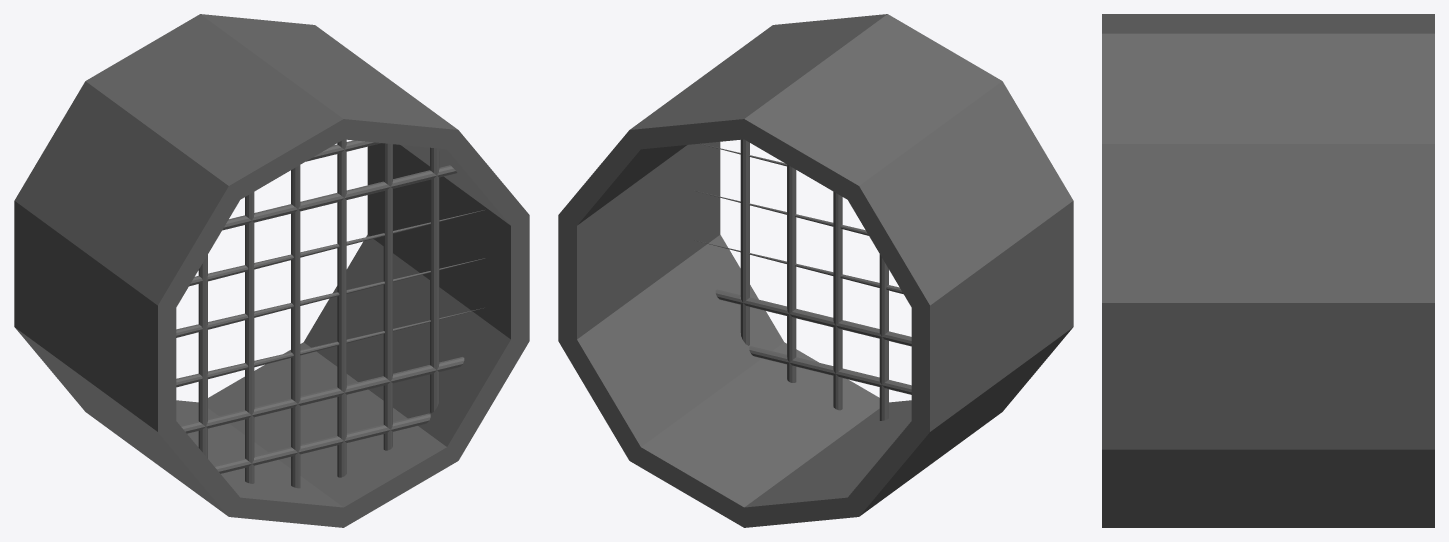
Rendered from obj_sewer_pipe_4.fbx.
The picture shows the model from 3 angles, left to right: view 1: azimuth 30°, elevation 25°; view 2: azimuth 150°, elevation 25°; view 3: azimuth 270°, elevation 25°; orthographic projection. The views are drawn at different scales.
Parts seen in each view (by area): view 1: obj_sewer_pipe_4; view 2: obj_sewer_pipe_4; view 3: obj_sewer_pipe_4.
Boxes of the visible parts, x1,y1,x2,y2 form: obj_sewer_pipe_4: [14, 14, 529, 527]; obj_sewer_pipe_4: [558, 14, 1073, 527]; obj_sewer_pipe_4: [1102, 14, 1434, 527].
Bounding box in the file's own units: 3.17 × 3.33 × 2.12.
Materials: 1 (1 with a texture image).
